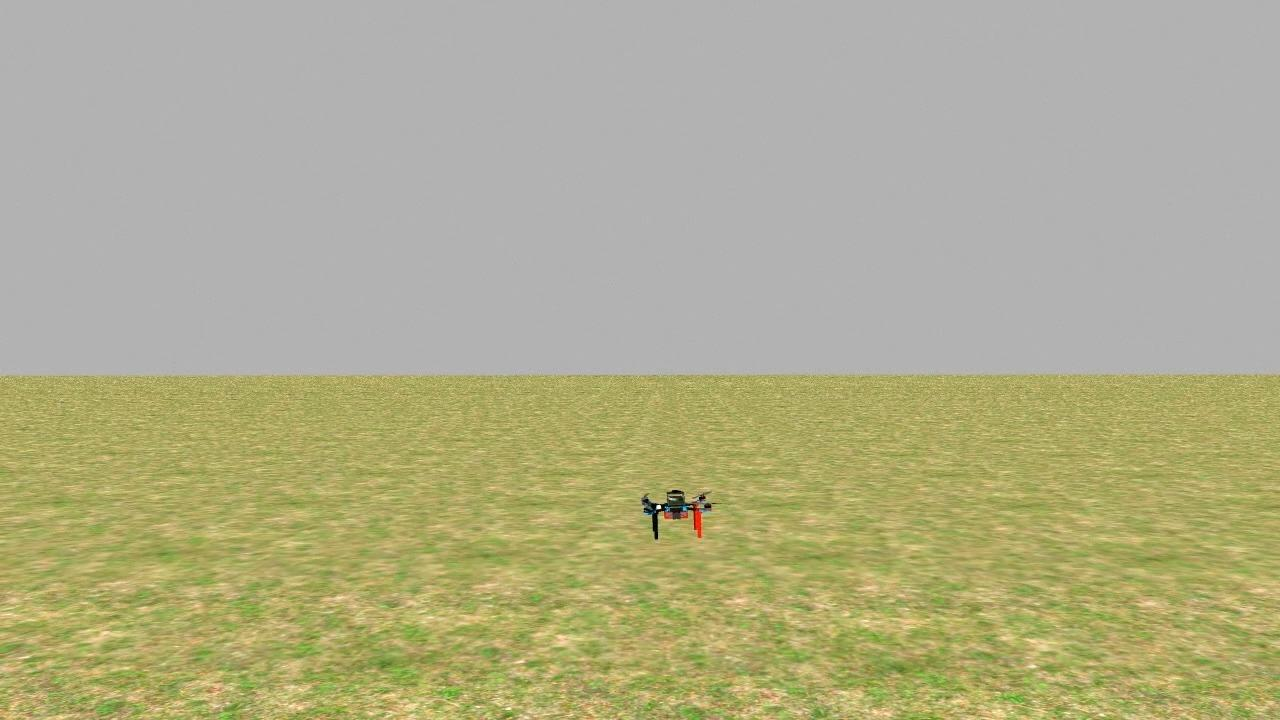UAV: (624, 481, 726, 556)
